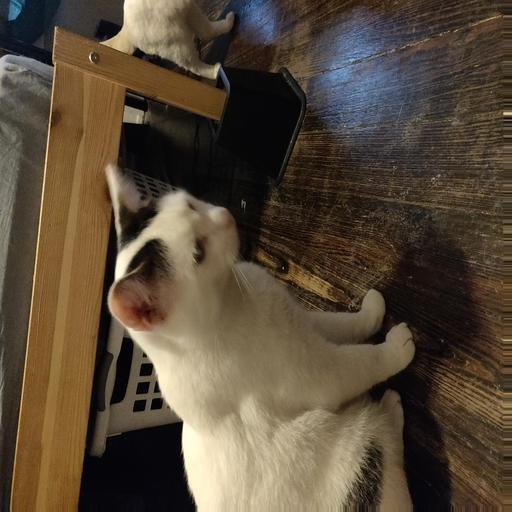cat: (90, 163, 418, 491)
